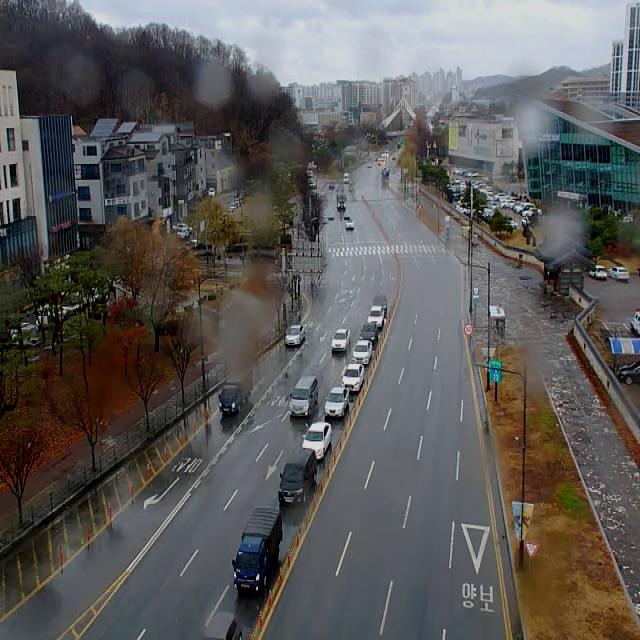Car: (280, 448, 318, 505), (302, 422, 332, 459), (203, 612, 242, 640), (290, 378, 318, 416), (325, 387, 349, 417), (342, 364, 364, 391), (617, 361, 640, 384), (353, 340, 372, 364), (360, 322, 378, 346), (285, 326, 305, 346), (332, 329, 350, 351), (368, 305, 384, 327), (373, 295, 387, 317), (608, 267, 629, 281), (588, 266, 607, 280), (177, 226, 189, 238), (346, 218, 354, 228), (209, 187, 215, 197), (344, 173, 349, 183)
Truck: (232, 507, 282, 592), (218, 370, 252, 412), (630, 309, 640, 336), (337, 194, 346, 210)
